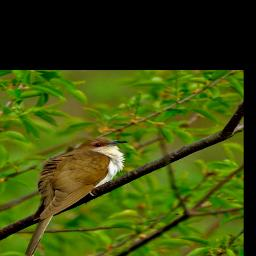Cuckoo: (20, 137, 130, 256)
